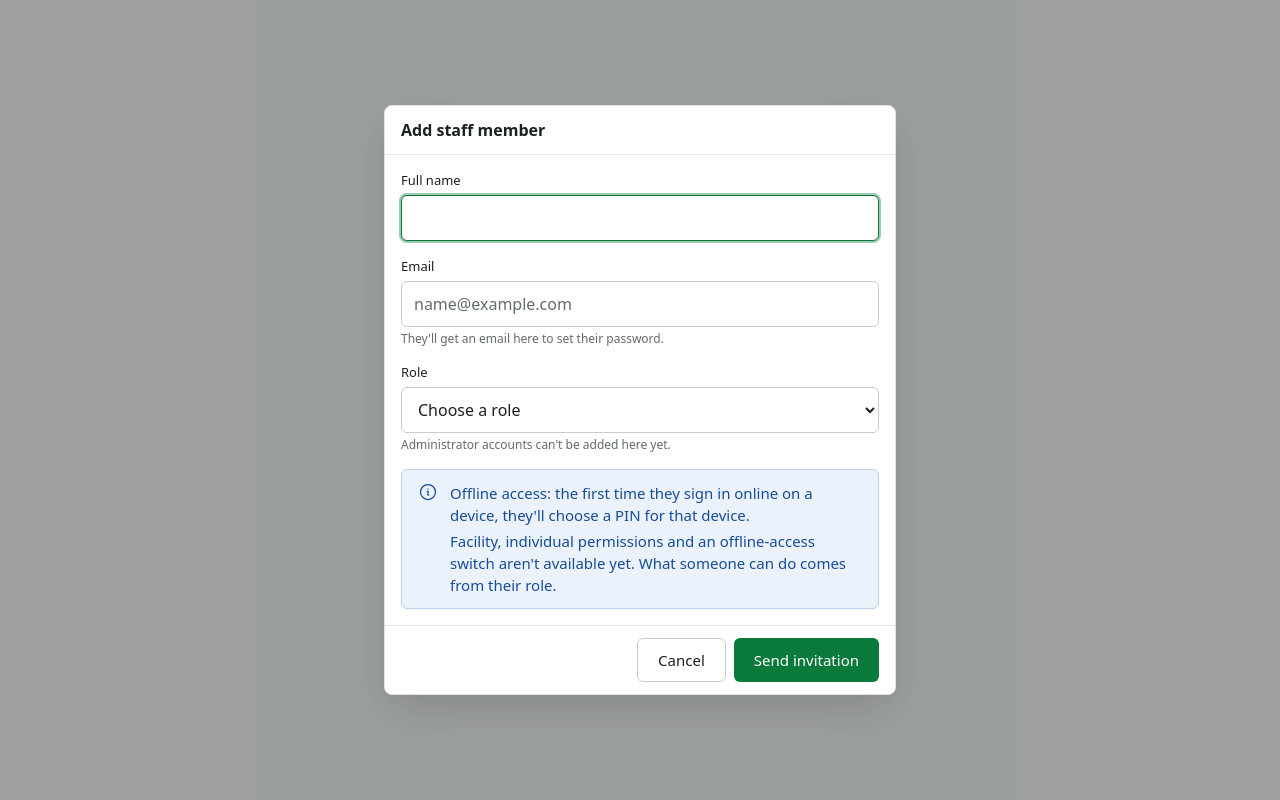
InviteStaffDialog › asks for a name, an email and a role before sending anything
The width and height of the screenshot is (1280, 800).
Click the button "Send invitation". click: x=806, y=660
box: [734,638,879,682]
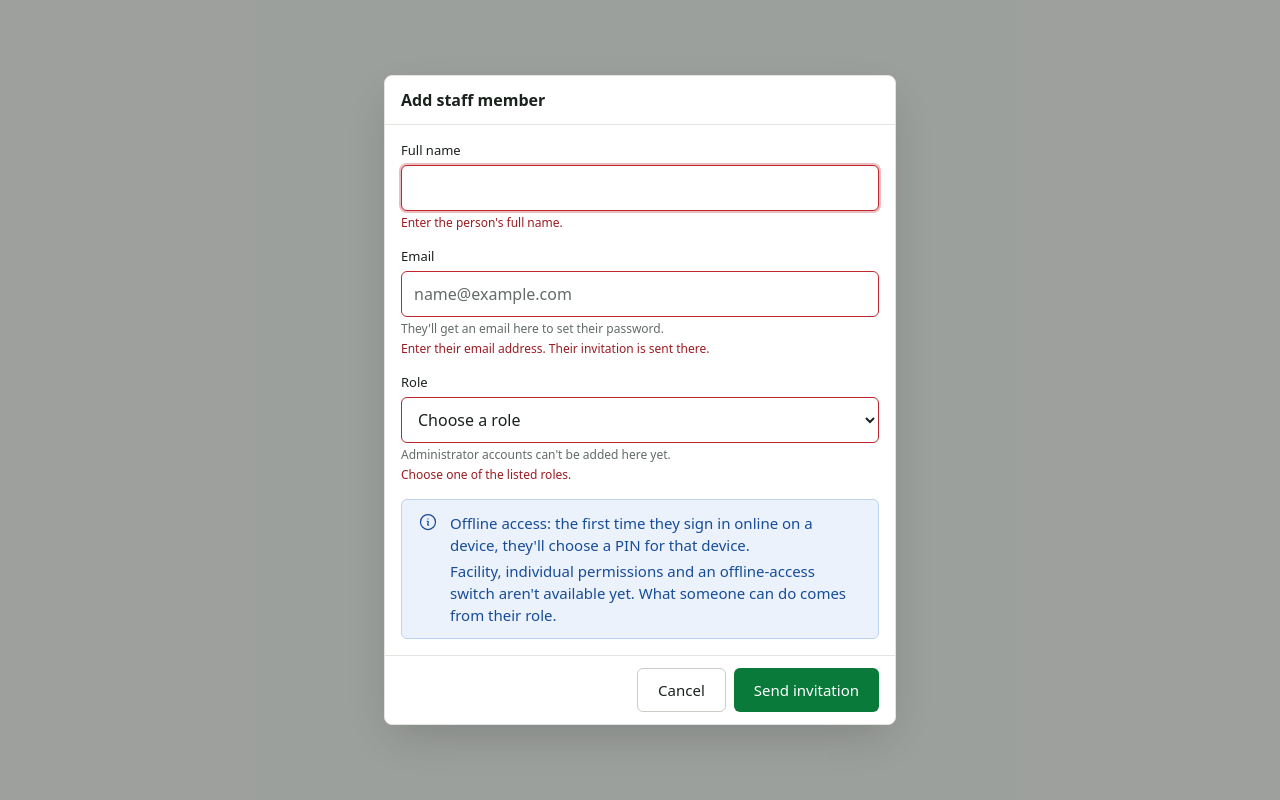
Now the text "Enter the person's full name." is shown, box [401,214,563,231]
Now the text "Enter their email address. Their invitation is sent there." is shown, box [401,340,709,357]
Now the text "Choose one of the listed roles." is shown, box [401,466,571,483]
